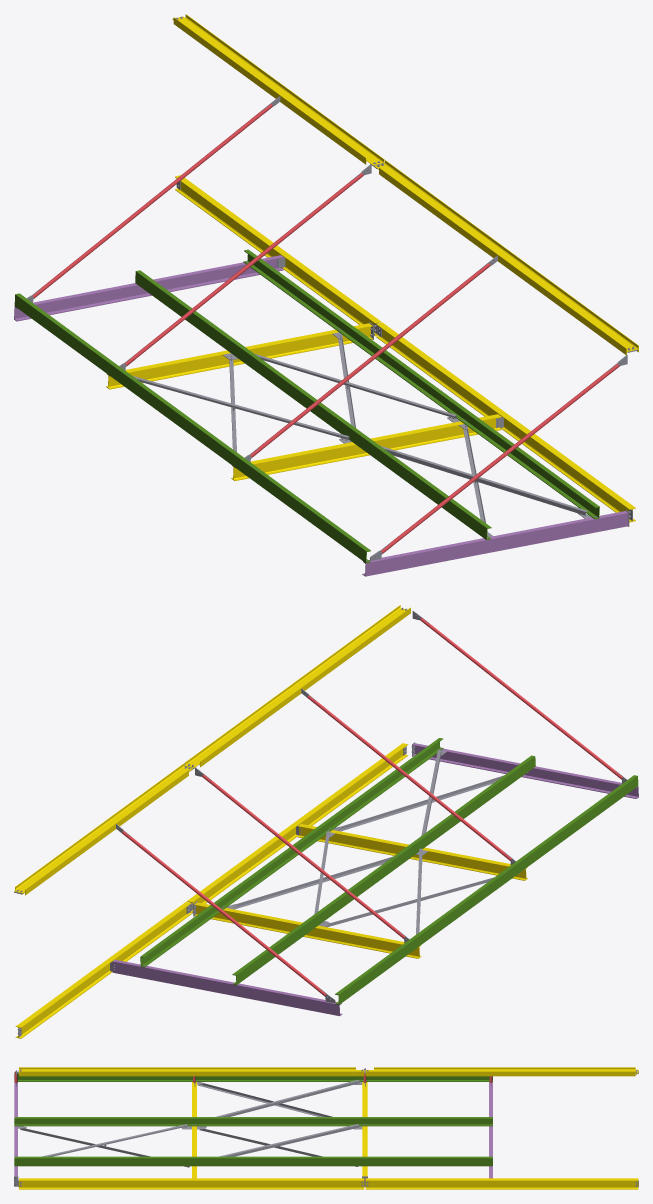
The model's file is Lot 3.glb.
The picture shows the model from 3 angles, top to bottom: view 1: azimuth 30°, elevation 25°; view 2: azimuth 150°, elevation 25°; view 3: azimuth 270°, elevation 25°; orthographic projection. The views are drawn at different scales.
Parts seen in each view (by area): view 1: Fake; view 2: Fake; view 3: Fake.
Boxes of the visible parts, x1,y1,x2,y2 form: Fake: (14,14,638,576); Fake: (14,605,638,1038); Fake: (14,1067,638,1189).
Size of the model in its own units: 3.94 by 2.39 by 11.31.
